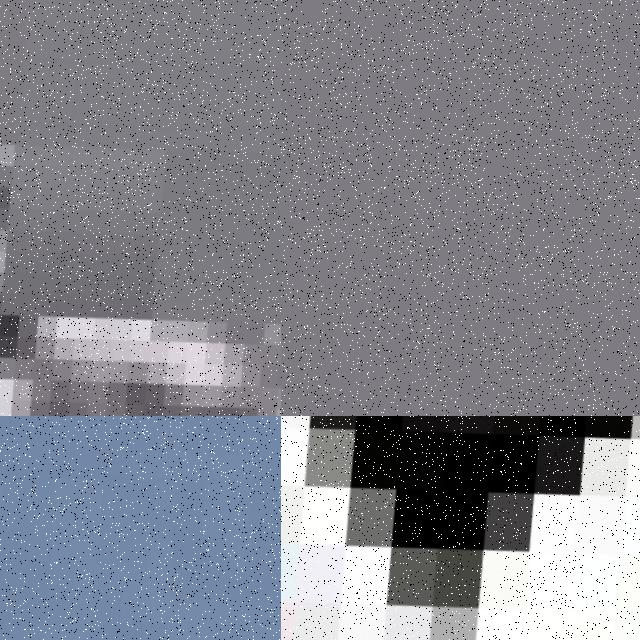0: (0, 0, 281, 416)
drone: (281, 416, 640, 640), (0, 416, 281, 640)
